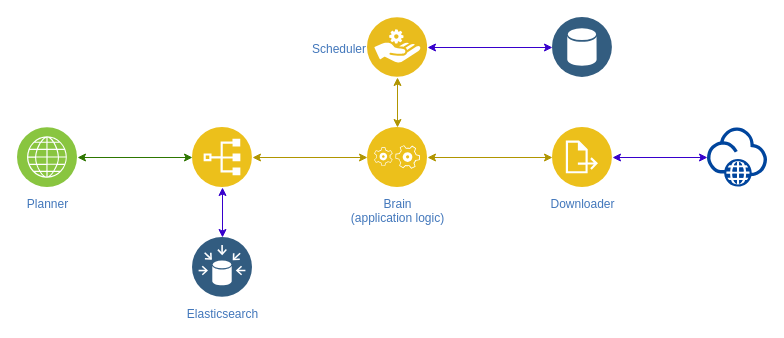
This 784x338 diagram has some shape labels left out. Each missing label, with the centre of its shape:
Internet: point 737,157
RabbitMQ: point 582,47
Spiders: point 222,157
